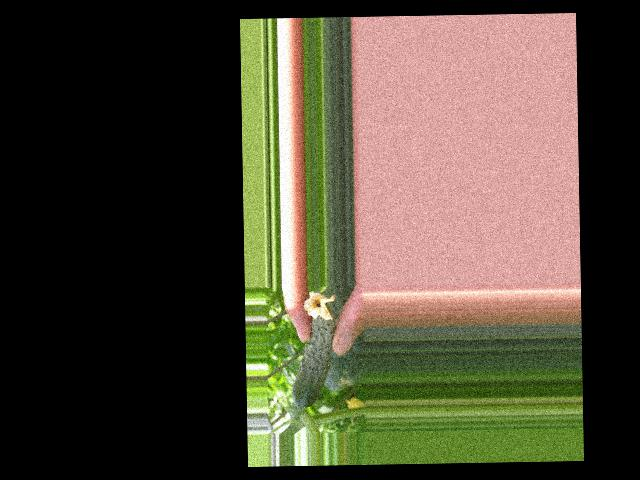cucumber: (291, 292, 337, 408)
